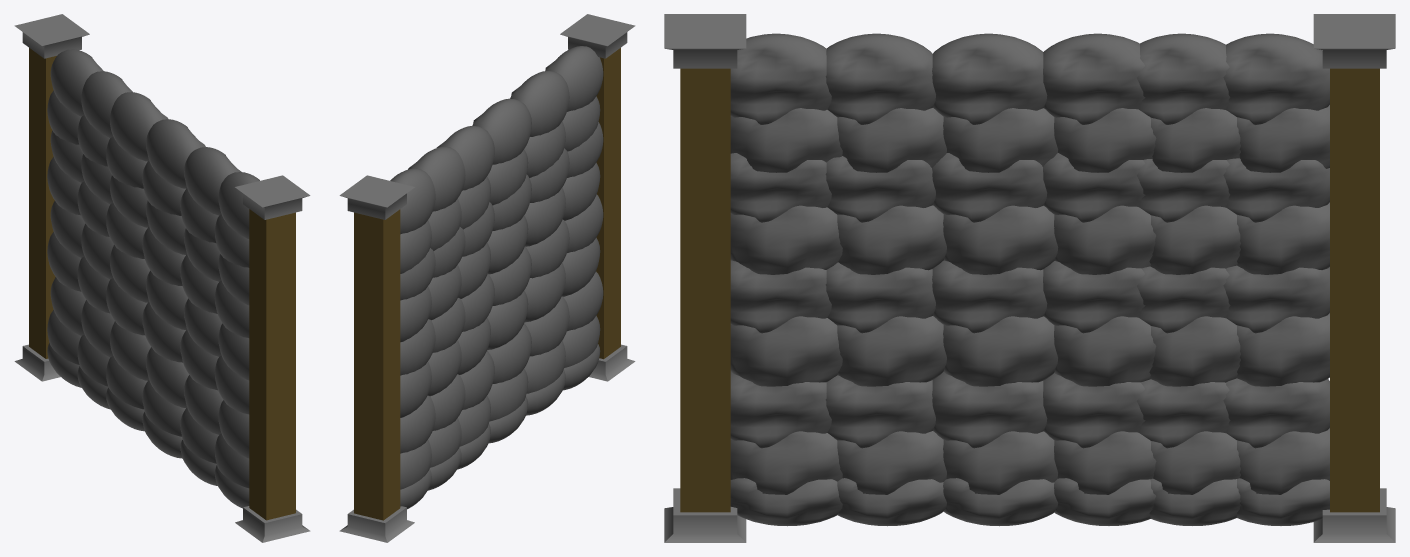
The model's file is MurUnity.fbx.
The picture shows the model from 3 angles, left to right: view 1: azimuth 30°, elevation 25°; view 2: azimuth 150°, elevation 25°; view 3: azimuth 270°, elevation 25°; orthographic projection. The views are drawn at different scales.
Visible parts, largest first — view 1: pCube2, pCube5, pSphere34, pSphere30, pSphere36, pCube3, pSphere32, pCube4, pSphere28, pSphere46, pSphere25, pSphere42 (+48 smaller); view 2: pCube5, pCube2, pSphere36, pSphere34, pSphere25, pCube4, pSphere28, pSphere30, pCube3, pSphere32, pSphere4, pSphere48 (+48 smaller); view 3: pCube2, pCube5, pSphere34, pSphere36, pSphere32, pSphere30, pSphere25, pSphere28, pSphere6, pSphere1, pSphere21, pSphere4 (+48 smaller).
Part boxes in pixels (bbox=[...]): pCube2: bbox=[249, 209, 295, 520]; pCube5: bbox=[29, 48, 56, 358]; pSphere34: bbox=[146, 119, 205, 188]; pSphere30: bbox=[110, 92, 168, 161]; pSphere36: bbox=[184, 147, 241, 215]; pCube3: bbox=[235, 175, 310, 219]; pSphere32: bbox=[50, 49, 103, 116]; pCube4: bbox=[14, 14, 89, 58]; pSphere28: bbox=[81, 71, 132, 137]; pSphere46: bbox=[146, 347, 189, 407]; pSphere25: bbox=[218, 172, 259, 238]; pSphere42: bbox=[110, 321, 150, 380]; pCube5: bbox=[354, 209, 400, 520]; pCube2: bbox=[596, 48, 620, 359]; pSphere36: bbox=[510, 71, 569, 136]; pSphere34: bbox=[472, 98, 531, 164]; pSphere25: bbox=[545, 46, 603, 111]; pCube4: bbox=[339, 175, 414, 219]; pSphere28: bbox=[408, 146, 465, 211]; pSphere30: bbox=[436, 126, 494, 190]; pCube3: bbox=[560, 14, 635, 58]; pSphere32: bbox=[390, 168, 435, 234]; pSphere4: bbox=[524, 263, 565, 322]; pSphere48: bbox=[524, 296, 569, 356]; pCube2: bbox=[680, 68, 730, 512]; pCube5: bbox=[1330, 68, 1379, 512]; pSphere34: bbox=[932, 33, 1047, 124]; pSphere36: bbox=[825, 33, 935, 124]; pSphere32: bbox=[1223, 33, 1329, 124]; pSphere30: bbox=[1043, 33, 1145, 124]; pSphere25: bbox=[730, 33, 831, 124]; pSphere28: bbox=[1137, 33, 1230, 124]; pSphere6: bbox=[943, 316, 1057, 386]; pSphere1: bbox=[730, 316, 842, 386]; pSphere21: bbox=[943, 205, 1058, 274]; pSphere4: bbox=[837, 316, 946, 386].
Bounding box in the file's own units: 1.64 × 10.87 × 14.58.
